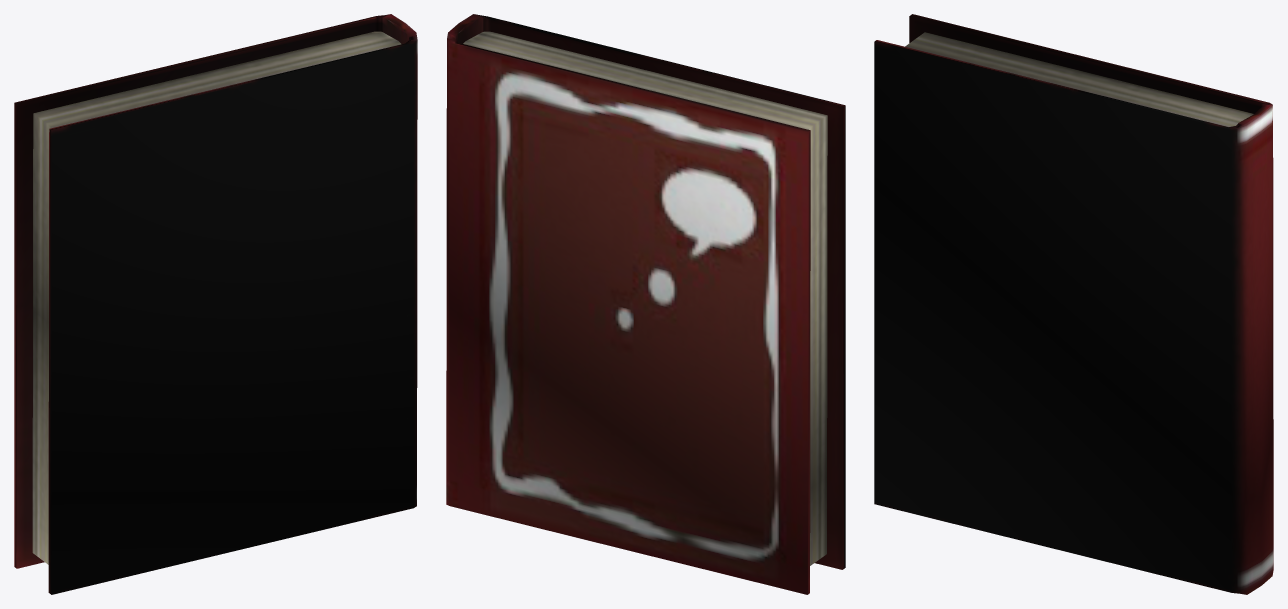
The model's file is frl_apartment_book_01.glb.
The picture shows the model from 3 angles, left to right: view 1: azimuth 30°, elevation 25°; view 2: azimuth 150°, elevation 25°; view 3: azimuth 330°, elevation 25°; orthographic projection.
Visible parts, largest first — view 1: frl_apartment_book_01; view 2: frl_apartment_book_01; view 3: frl_apartment_book_01.
Boxes of the visible parts, left/top/right/bottom form: frl_apartment_book_01: left=14, top=14, right=417, bottom=594; frl_apartment_book_01: left=446, top=14, right=845, bottom=594; frl_apartment_book_01: left=874, top=14, right=1273, bottom=594.
Bounding box in the file's own units: 0.1471 × 0.1794 × 0.0271.
1 material, 1 textured.
